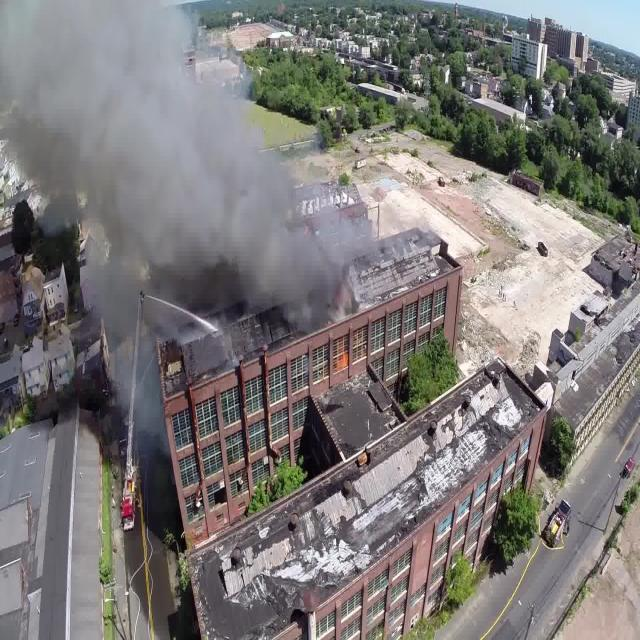Fire: (332, 340, 350, 376)
Smoke: (0, 2, 403, 357)
